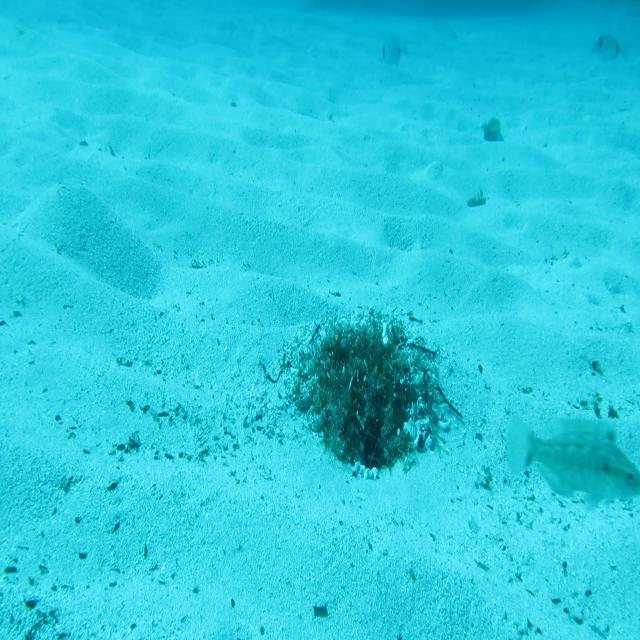CHASE_FLEE: (503, 410, 640, 515)
core_nest: (344, 334, 395, 376)
nest: (280, 302, 456, 488)
other_fish: (588, 31, 632, 66), (377, 38, 409, 70)
vegetation: (482, 117, 504, 145), (464, 186, 486, 208), (314, 604, 329, 618)
